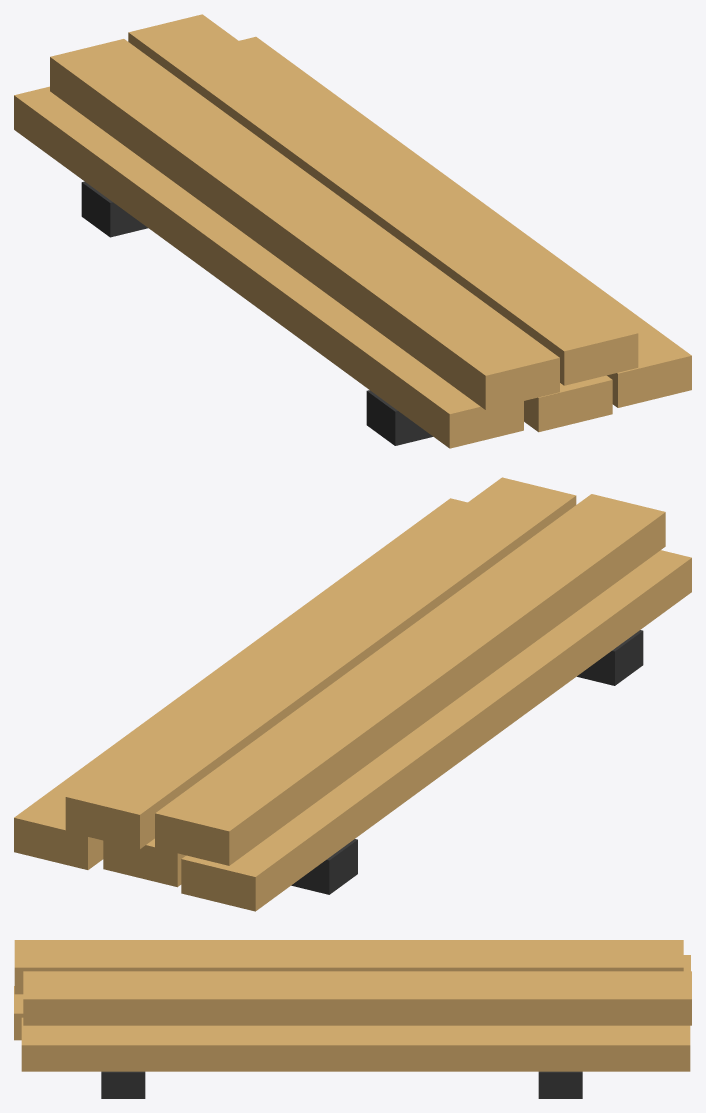
Rendered from planks.glb.
3 views of the same model, one above another, from view 1: azimuth 30°, elevation 25°; view 2: azimuth 150°, elevation 25°; view 3: azimuth 270°, elevation 25° (orthographic). The views are drawn at different scales.
Visible parts, largest first — view 1: Planks_Wood_V1; view 2: Planks_Wood_V1; view 3: Planks_Wood_V1.
Part boxes in pixels (x1,y1,x2,y2): Planks_Wood_V1: [14, 14, 691, 448]; Planks_Wood_V1: [14, 477, 691, 911]; Planks_Wood_V1: [14, 940, 691, 1098].
Size of the model in its own units: 1.52 by 0.6065 by 4.7.
Materials: 1 (1 with a texture image).
